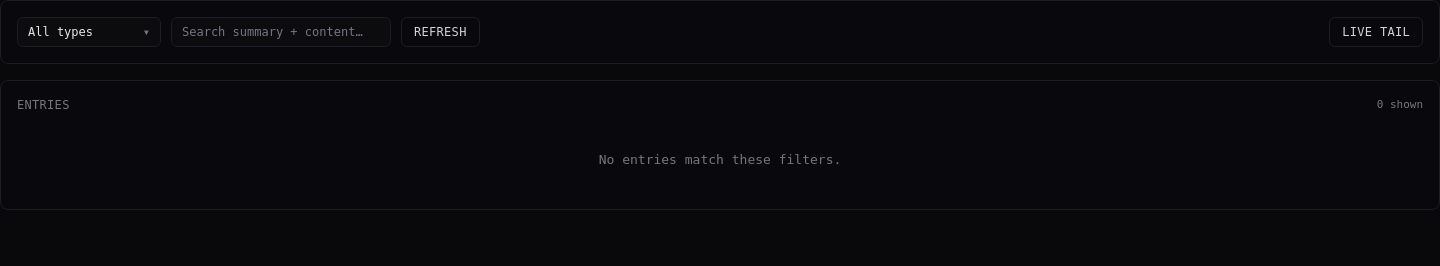
Scenario: EntriesSection › prepends a live entry from the SSE stream when live tail is on
This screenshot has width=1440, height=266.
Expected: the text "No entries match these filters." is shown, top-left (599, 152), bottom-right (841, 166)
Click the button "Live tail" at (1376, 32), box top-left (1329, 17), bottom-right (1423, 47)
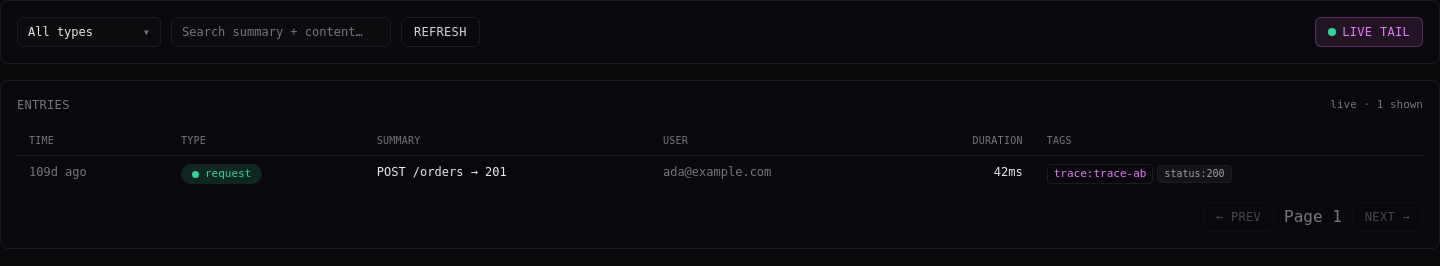
Expected: the text "POST /orders → 201" is shown, top-left (365, 155), bottom-right (651, 192)
